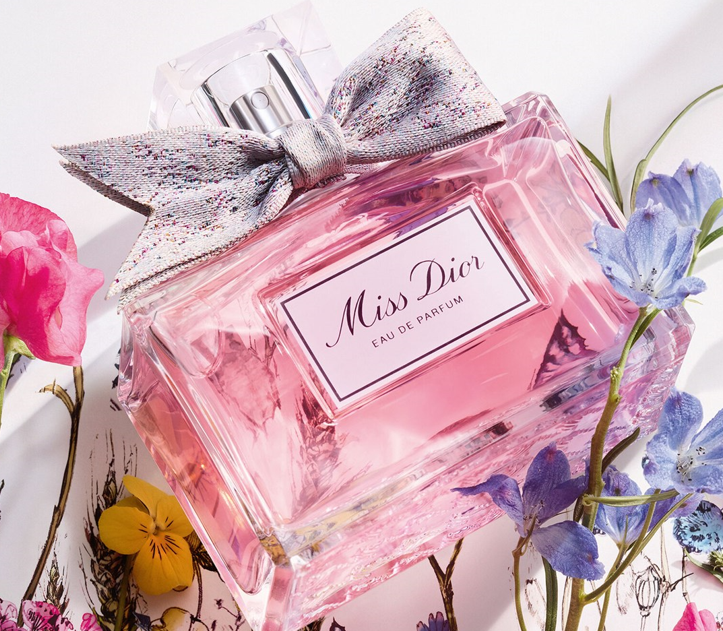dior_miss_dior: (82, 1, 698, 615)
